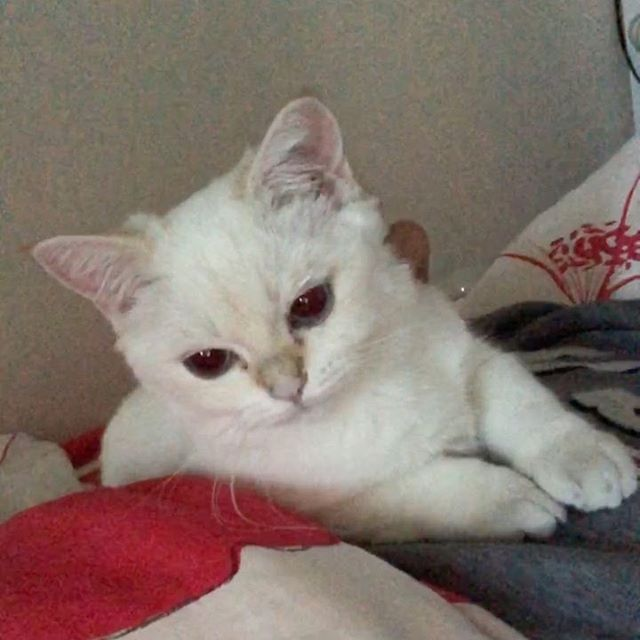cat: (28, 94, 379, 434)
